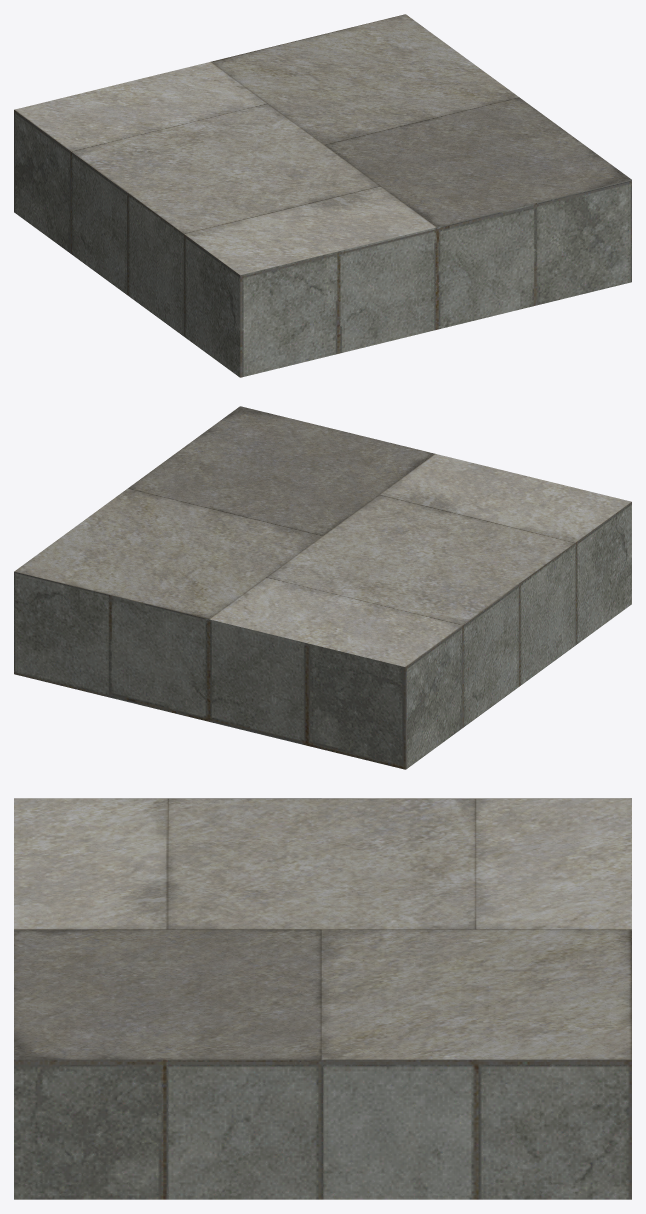
Rendered from floor_block_2_2x2.fbx.
The picture shows the model from 3 angles, top to bottom: view 1: azimuth 30°, elevation 25°; view 2: azimuth 150°, elevation 25°; view 3: azimuth 270°, elevation 25°; orthographic projection. The views are drawn at different scales.
Parts seen in each view (by area): view 1: floor_block_2_2x2; view 2: floor_block_2_2x2; view 3: floor_block_2_2x2.
Part boxes in pixels (left/top/right/bottom): floor_block_2_2x2: left=14, top=14, right=631, bottom=377; floor_block_2_2x2: left=14, top=406, right=631, bottom=769; floor_block_2_2x2: left=14, top=798, right=631, bottom=1199.
Bounding box in the file's own units: 200 × 50 × 200.
